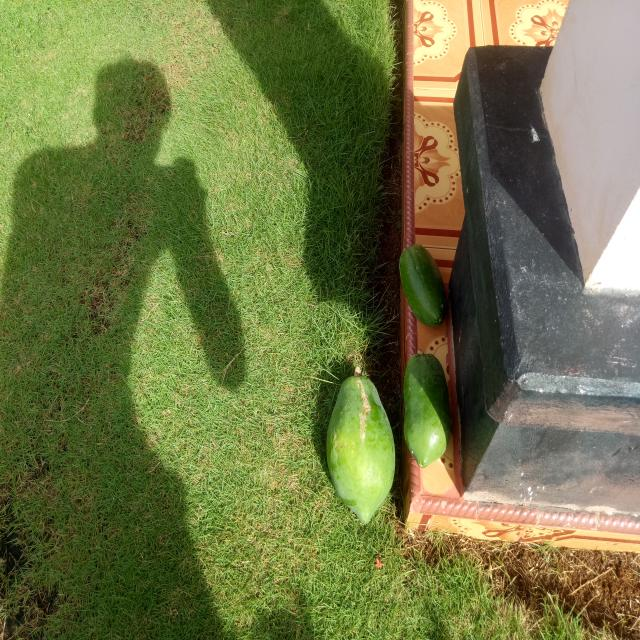Pepaya unrippen: (322, 364, 388, 525), (399, 346, 450, 464), (397, 238, 449, 323)
